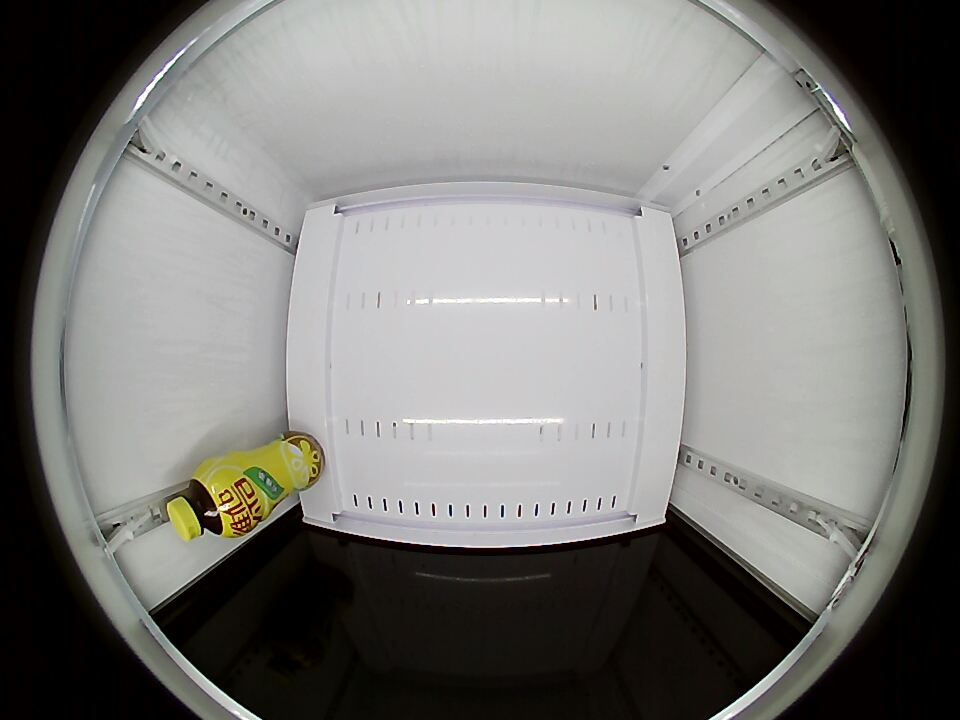weitaningmeng-bottle: (167, 462, 249, 541)
